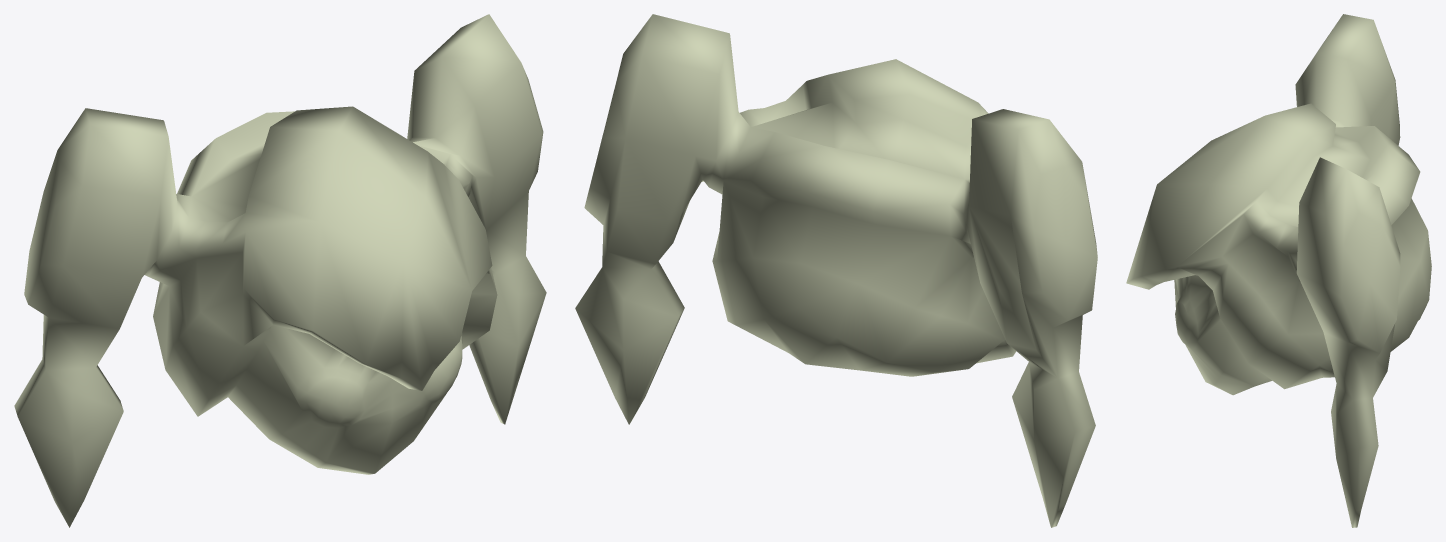
The model's file is anime_robot_head.dae.
3 renders of one model, left to right at view 1: azimuth 30°, elevation 25°; view 2: azimuth 150°, elevation 25°; view 3: azimuth 270°, elevation 25°, orthographic. The views are drawn at different scales.
Parts seen in each view (by area): view 1: Cube1_copy2-0; view 2: Cube1_copy2-0; view 3: Cube1_copy2-0.
Boxes of the visible parts, box(x1,y1,x2,y2) form: Cube1_copy2-0: box(14, 14, 546, 527); Cube1_copy2-0: box(575, 14, 1097, 527); Cube1_copy2-0: box(1126, 14, 1431, 527).
Size of the model in its own units: 3.96 by 3.01 by 2.37.
